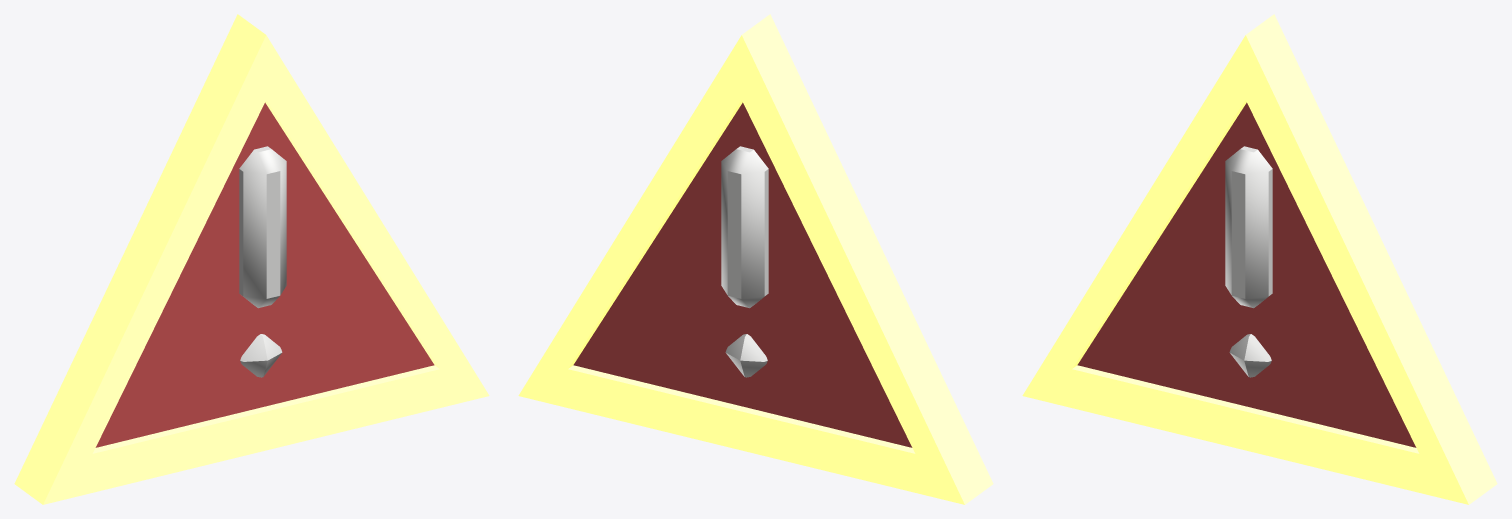
The model's file is kr_warn.glb.
The picture shows the model from 3 angles, left to right: view 1: azimuth 30°, elevation 25°; view 2: azimuth 150°, elevation 25°; view 3: azimuth 330°, elevation 25°; orthographic projection.
Visible parts, largest first — view 1: kr_warn_neonamber, vc_m0_r4, vc_m0_r2; view 2: kr_warn_neonamber, vc_m0_r4, vc_m0_r2; view 3: kr_warn_neonamber, vc_m0_r4, vc_m0_r2.
Boxes of the visible parts, left/top/right/bottom form: kr_warn_neonamber: left=14, top=14, right=489, bottom=504; vc_m0_r4: left=95, top=102, right=434, bottom=447; vc_m0_r2: left=239, top=146, right=286, bottom=377; kr_warn_neonamber: left=518, top=14, right=993, bottom=504; vc_m0_r4: left=573, top=102, right=912, bottom=447; vc_m0_r2: left=721, top=146, right=768, bottom=377; kr_warn_neonamber: left=1022, top=14, right=1497, bottom=504; vc_m0_r4: left=1077, top=102, right=1416, bottom=447; vc_m0_r2: left=1225, top=146, right=1272, bottom=377.
Bounding box in the file's own units: 0.36 × 0.32 × 0.06.
